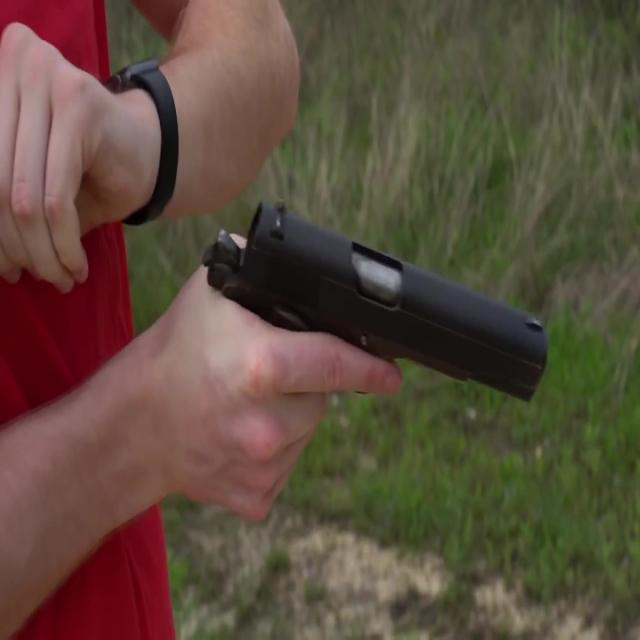Weapon: (168, 121, 575, 497)
